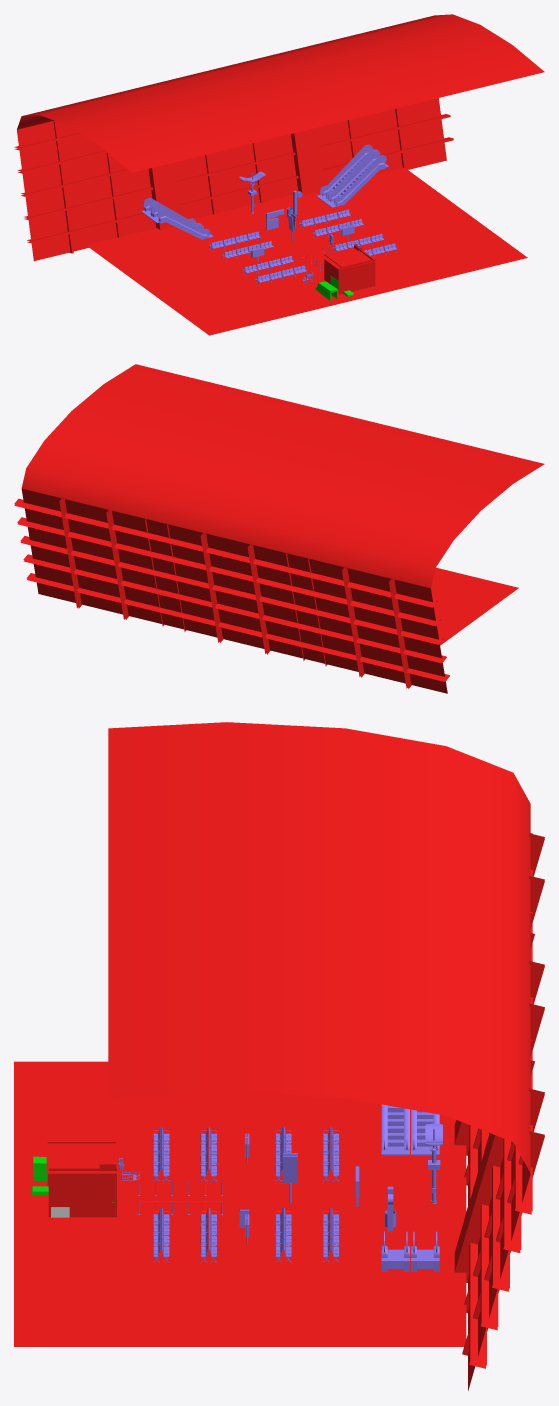
The model's file is 1104_Airport_Middle_Export.fbx.
3 renders of one model, top to bottom at view 1: azimuth 30°, elevation 25°; view 2: azimuth 150°, elevation 25°; view 3: azimuth 270°, elevation 25°, orthographic. The views are drawn at different scales.
Parts seen in each view (by area): view 1: dome, Floor 01, windowframe, chair 002, chair 003, escalator 003, wall 03, escalator 01, escalator 004, second floor; view 2: dome, windowframe, Floor 01; view 3: dome, Floor 01, windowframe, Wall 04, chair 003, chair 002, second floor, escalator 01, escalator 002, Lighting Pillar 01.
Part boxes in pixels (x1,y1,x2,y2): dome: (17, 14, 544, 261); Floor 01: (86, 168, 527, 335); windowframe: (14, 108, 453, 253); chair 002: (209, 231, 307, 285); chair 003: (299, 209, 397, 257); escalator 003: (324, 150, 388, 207); wall 03: (338, 259, 375, 294); escalator 01: (149, 204, 213, 239); escalator 004: (316, 144, 377, 201); second floor: (320, 247, 376, 269); dome: (21, 364, 544, 693); windowframe: (14, 496, 449, 688); Floor 01: (431, 567, 518, 645); dome: (108, 722, 530, 1390); Floor 01: (14, 1061, 466, 1346); windowframe: (454, 833, 544, 1368); Wall 04: (48, 1168, 116, 1217); chair 003: (153, 1207, 339, 1263); chair 002: (153, 1127, 339, 1183); second floor: (46, 1139, 117, 1173); escalator 01: (381, 1104, 409, 1155); escalator 002: (411, 1109, 439, 1155); Lighting Pillar 01: (425, 1123, 442, 1203).
Bounding box in the file's own units: 1236 × 464 × 733.
